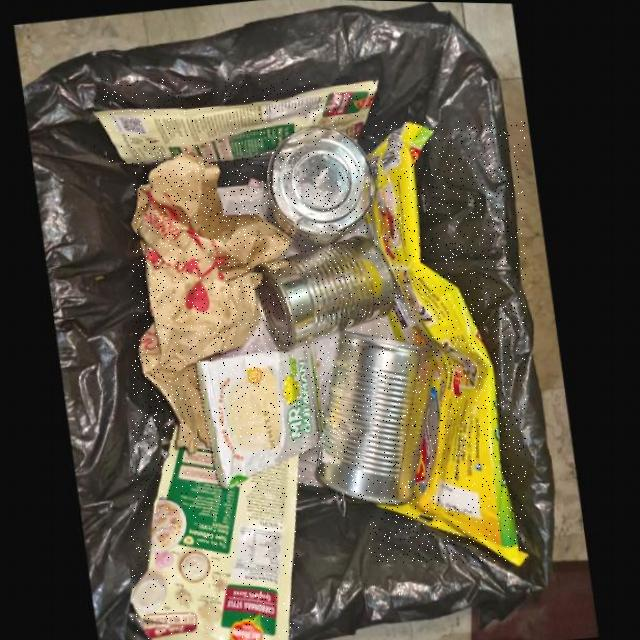metal: (318, 331, 435, 501), (253, 234, 394, 350), (263, 124, 376, 250)
paper: (132, 152, 292, 452)
wrapper: (368, 121, 526, 563), (131, 440, 299, 640), (94, 79, 379, 164), (198, 342, 323, 488)
